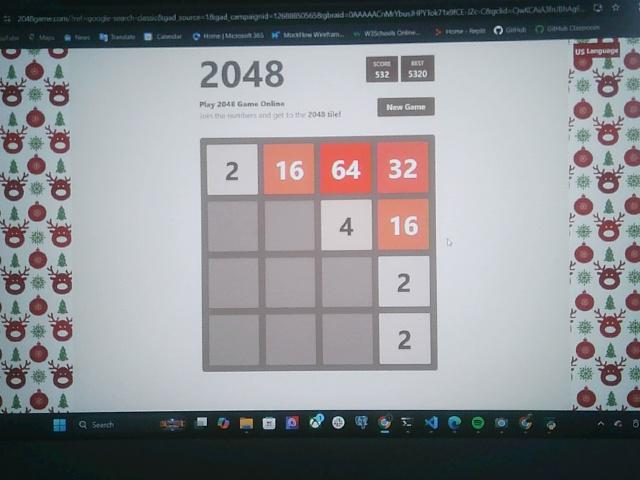board: (201, 138, 437, 372)
tile: (377, 198, 430, 252), (376, 141, 430, 193), (319, 142, 373, 193), (207, 143, 259, 195), (322, 199, 374, 251), (378, 255, 431, 306), (380, 313, 431, 365), (264, 143, 315, 194)
